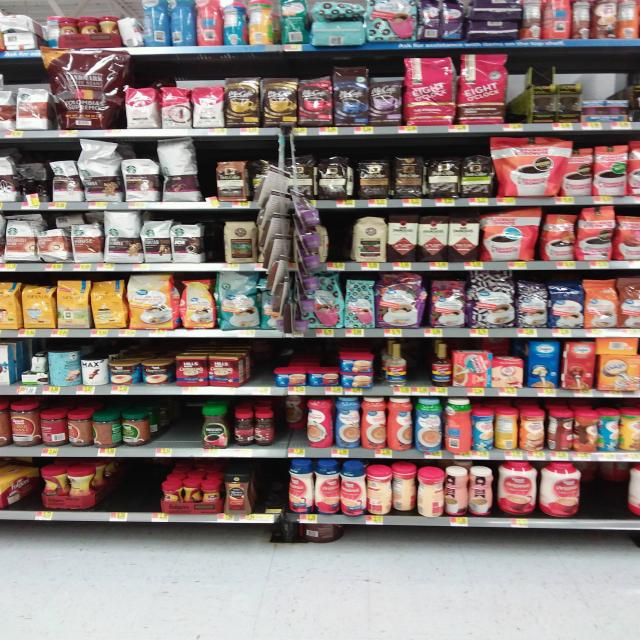empty: (138, 400, 208, 453), (97, 461, 167, 510), (322, 212, 361, 268), (256, 458, 292, 512)
